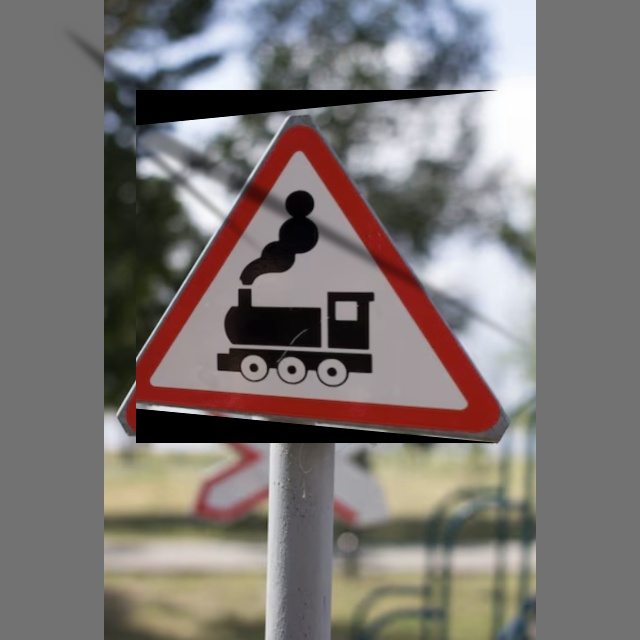Unguarded_Level_Crossing: (136, 90, 499, 443)
